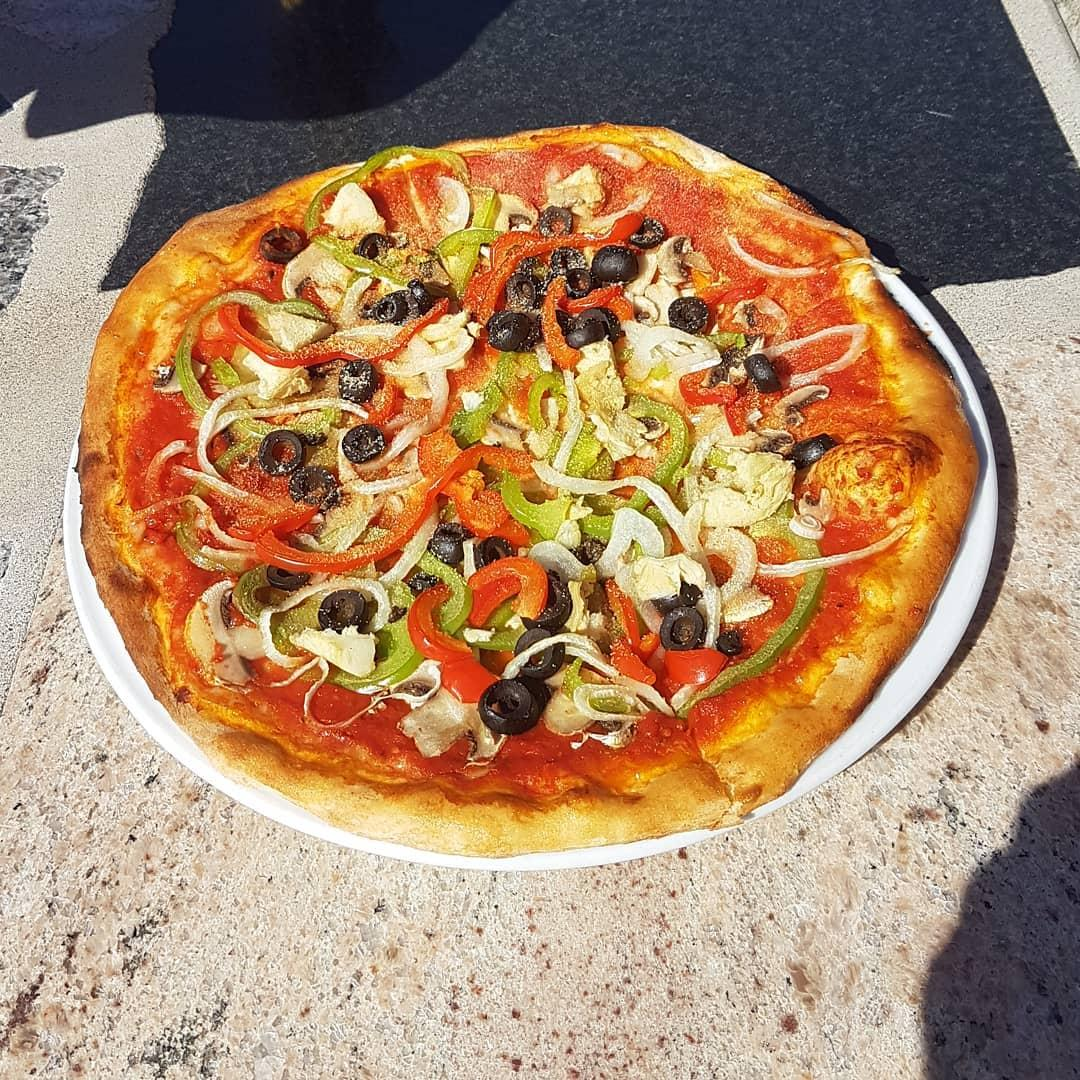Olives: (480, 679, 547, 730), (515, 629, 564, 679), (525, 575, 570, 628), (484, 310, 541, 351), (289, 471, 341, 508), (374, 288, 434, 320), (659, 609, 702, 651), (572, 306, 619, 344), (259, 432, 304, 471), (593, 244, 638, 281), (319, 590, 364, 627), (342, 423, 385, 460), (341, 359, 376, 404), (653, 579, 704, 609), (667, 296, 708, 331), (788, 433, 834, 464), (505, 274, 544, 310), (744, 353, 780, 391), (261, 228, 300, 263), (432, 525, 468, 562), (267, 561, 309, 591), (477, 536, 516, 566), (540, 206, 572, 237), (632, 217, 665, 246), (355, 233, 389, 260), (411, 572, 437, 589)
Peppers: (685, 623, 801, 712), (331, 634, 477, 691), (326, 143, 474, 198), (222, 321, 422, 360), (389, 455, 459, 533), (631, 397, 692, 485), (441, 197, 493, 297), (778, 513, 825, 623), (440, 562, 525, 622), (256, 533, 417, 563), (499, 477, 571, 534), (173, 307, 209, 413), (209, 291, 328, 322), (539, 278, 578, 367), (493, 231, 593, 262), (177, 485, 211, 571), (529, 370, 570, 440), (229, 569, 261, 618), (306, 176, 326, 236)
Pizza: (75, 125, 972, 858)
